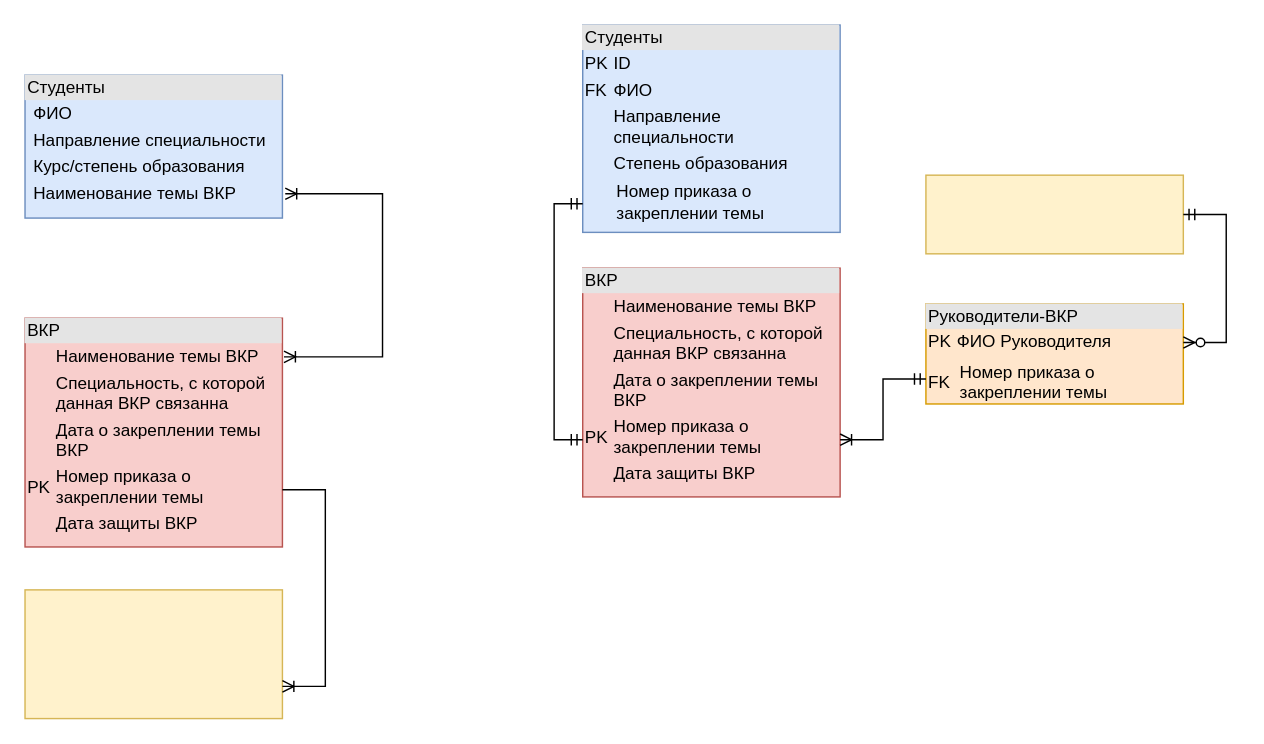
This 1264x744 diagram has some shape labels left out. Here are the shapes that lost their labels. From the top down, the centre of each, then its label:
point (1053, 214): Руководители PK ФИО Должность
point (153, 653): Руководители ФИО Должность Номер приказа о закреплении темы
